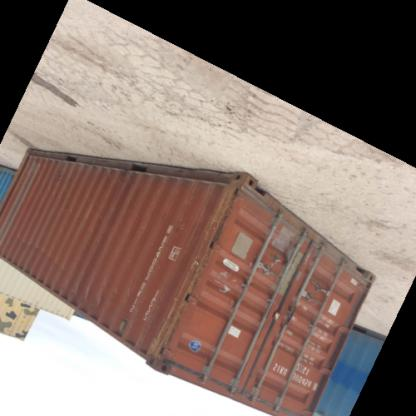Damage: (270, 224, 308, 304), (153, 292, 186, 362), (208, 185, 241, 249), (16, 240, 68, 276), (68, 280, 108, 306), (214, 267, 243, 295), (70, 210, 108, 229)
